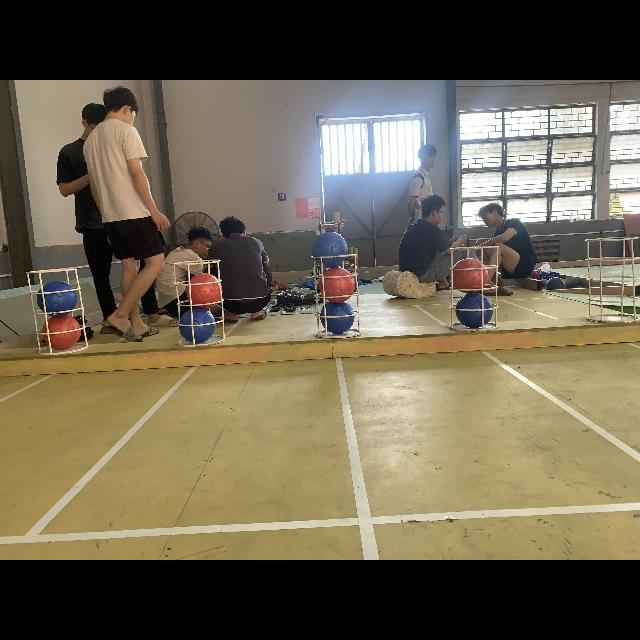B: (312, 232, 348, 268), (458, 292, 494, 328), (38, 282, 76, 316), (178, 308, 216, 342), (321, 302, 353, 334)
R: (43, 316, 83, 354), (452, 255, 488, 293), (319, 265, 355, 301), (187, 274, 223, 308)
